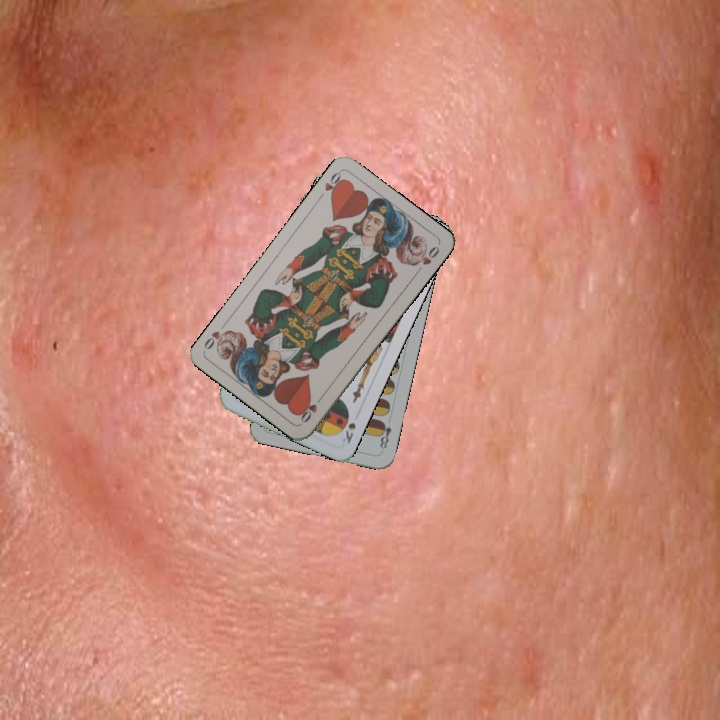E8: (375, 417, 394, 452)
HO: (315, 168, 347, 202), (296, 391, 326, 426)
SK: (338, 419, 358, 446)
